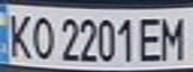0: (97, 15, 118, 63)
1: (115, 15, 139, 63)
2: (54, 14, 81, 63), (78, 15, 100, 63)
E: (136, 14, 166, 63)
K: (3, 10, 36, 60)
M: (154, 12, 190, 61)
O: (27, 11, 57, 61)
